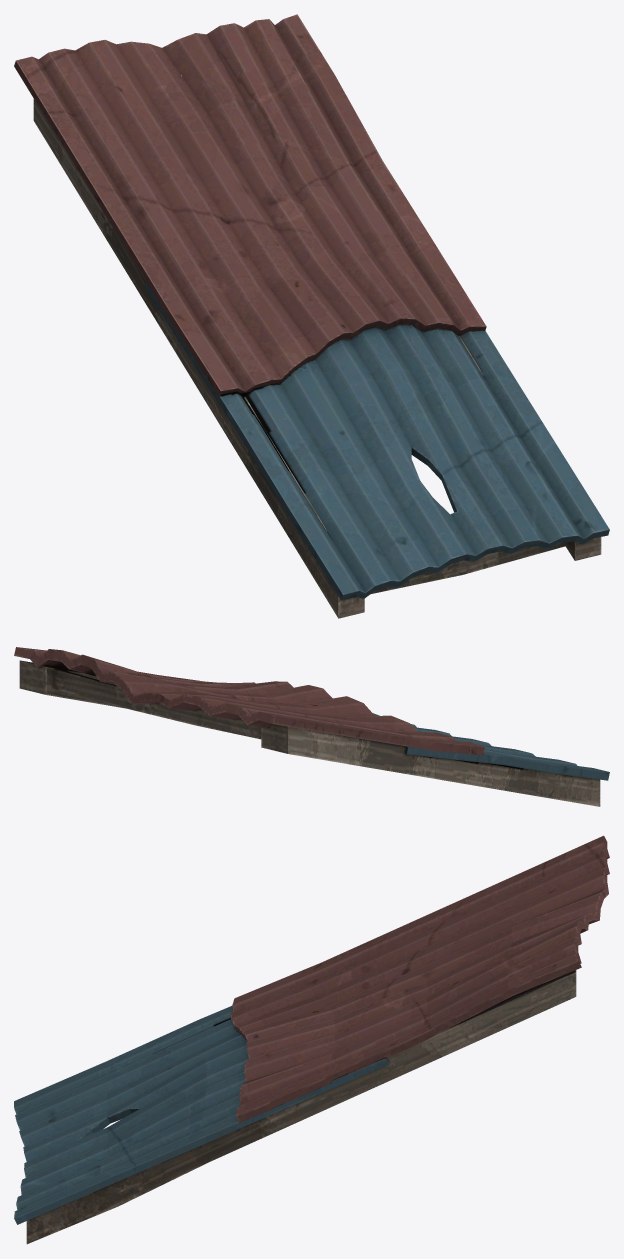
File: MetalRoof_1x2.glb
3 views of the same model, one above another, from view 1: azimuth 30°, elevation 25°; view 2: azimuth 150°, elevation 25°; view 3: azimuth 270°, elevation 25° (orthographic). The views are drawn at different scales.
Parts seen in each view (by area): view 1: MetalRoof_1x2; view 2: MetalRoof_1x2; view 3: MetalRoof_1x2.
Boxes of the visible parts, left/top/right/bottom form: MetalRoof_1x2: left=14, top=14, right=609, bottom=618; MetalRoof_1x2: left=14, top=647, right=609, bottom=806; MetalRoof_1x2: left=14, top=835, right=609, bottom=1244.
Bounding box in the file's own units: 1.02 × 1.18 × 2.18.
Materials: 1 (1 with a texture image).
